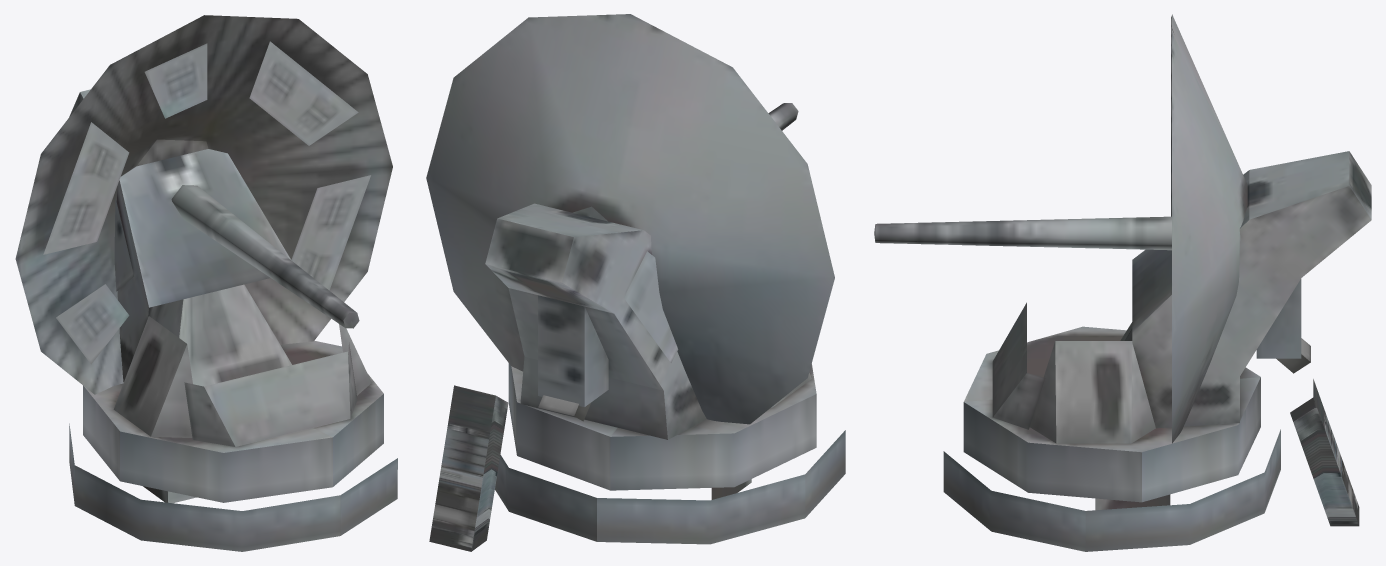
Rendered from atgar.far.glb.
3 views of the same model, side by side, from view 1: azimuth 30°, elevation 25°; view 2: azimuth 150°, elevation 25°; view 3: azimuth 270°, elevation 25° (orthographic). The views are drawn at different scales.
Bounding box in the file's own units: 2.13 × 2.41 × 2.41.
1 material, 1 textured.
